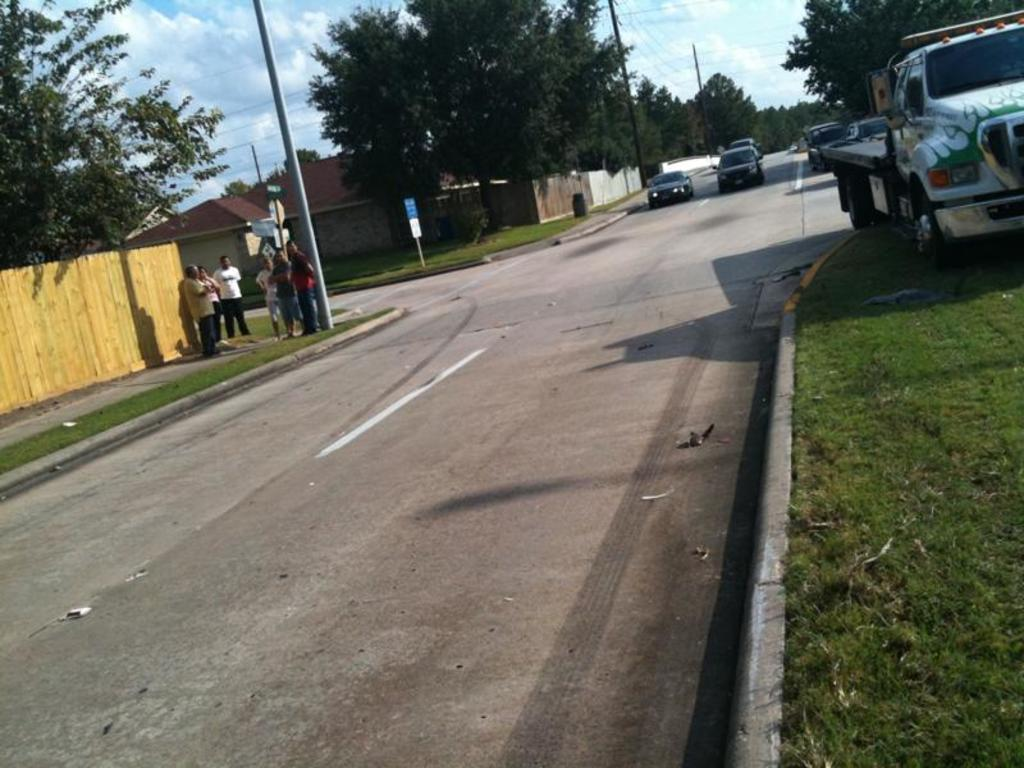car: (635, 158, 702, 215), (710, 139, 774, 196)
